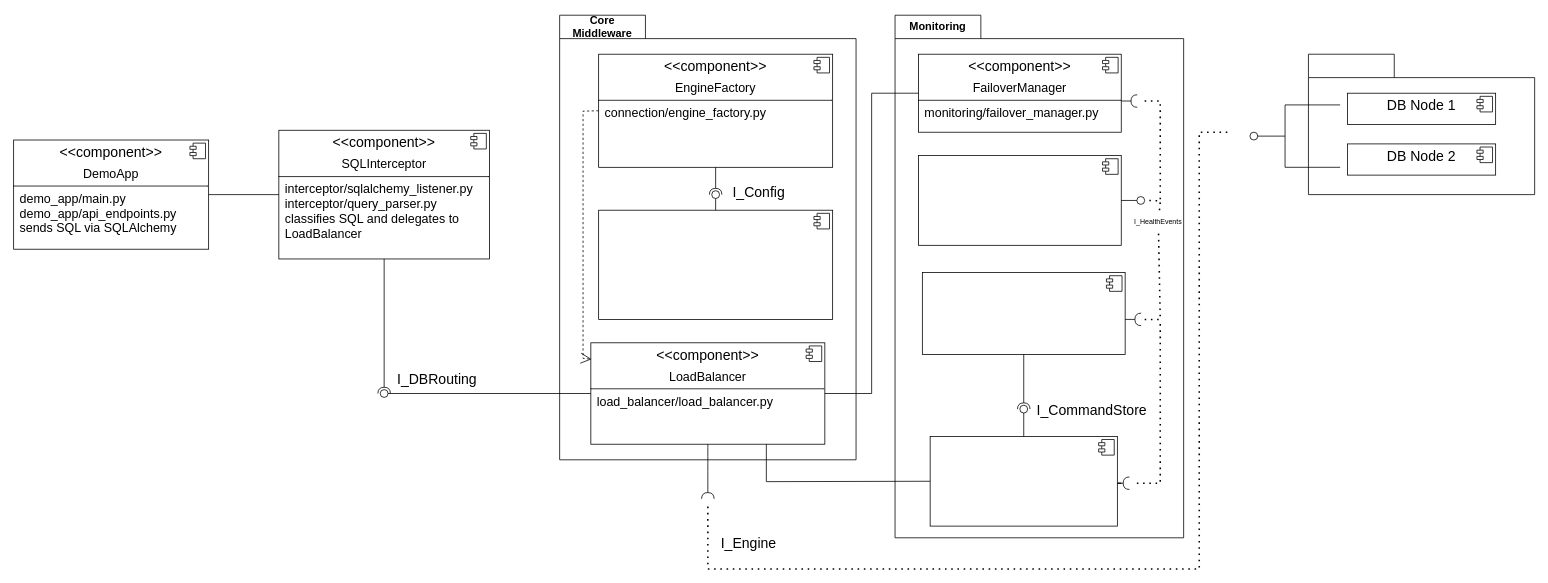
Image size: 1548x583. Some labels were removed from this diagram. Each missing label, with the box of its shape:
<<component>> CommandLogManager monitoring/failover_manager.py: (929, 436, 1117, 526)
<<component>> ConfigLoader config/config_loader.py config/database_config.yaml: (598, 209, 833, 319)
<<component>> HealthChecker monitoring/health_checker.py: (918, 155, 1121, 245)
<<component>> RecoveryManager replication/recovery_manager.py: (922, 272, 1125, 355)
Databases: (1308, 53, 1535, 195)
